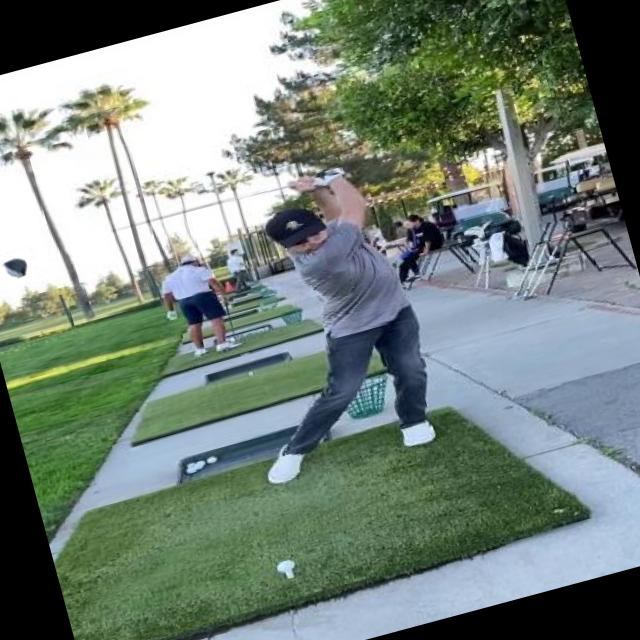club head: (0, 248, 36, 288)
